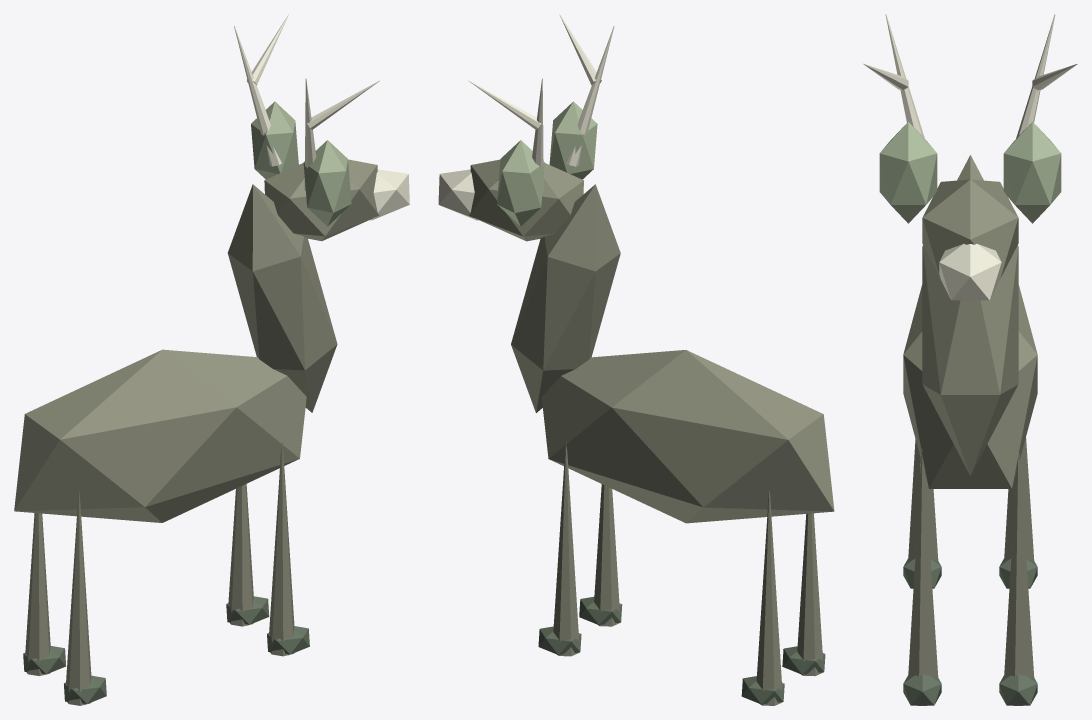
File: deer.glb
3 views of the same model, side by side, from view 1: azimuth 30°, elevation 25°; view 2: azimuth 150°, elevation 25°; view 3: azimuth 270°, elevation 25° (orthographic). The views are drawn at different scales.
Parts seen in each view (by area): view 1: body.003, neck, head.002, shin.004, shin.005, ear.002, shin.006, shin.007, ear.003, muzzle.001, branch.014, hoof.003 (+4 smaller); view 2: body.003, neck, head.002, shin.007, shin.006, ear.003, shin.004, shin.005, ear.002, muzzle.001, branch.012, hoof (+3 smaller); view 3: neck, body.003, head.002, ear.002, ear.003, shin.007, shin.005, muzzle.001, shin.006, shin.004, hoof.001, hoof.003 (+6 smaller).
Boxes of the visible parts, x1,y1,x2,y2 form: body.003: (14,349,306,522); neck: (227,184,337,412); head.002: (264,159,379,241); shin.004: (66,491,91,705); shin.005: (269,442,294,656); ear.002: (303,140,351,226); shin.006: (25,513,50,675); shin.007: (228,484,253,626); ear.003: (251,101,298,179); muzzle.001: (369,169,409,220); branch.014: (234,26,281,166); hoof.003: (226,596,269,625); body.003: (541,350,834,523); neck: (511,184,620,412); head.002: (469,159,583,241); shin.007: (553,442,579,656); shin.006: (756,492,782,705); ear.003: (497,140,544,226); shin.004: (797,513,823,676); shin.005: (594,484,620,626); ear.002: (549,101,597,179); muzzle.001: (438,169,478,220); branch.012: (566,26,614,166); hoof: (782,646,825,674); neck: (922,155,1018,475); body.003: (903,285,1037,488); head.002: (922,179,1018,278); ear.002: (879,121,937,223); ear.003: (1003,121,1061,223); shin.007: (1004,449,1034,677); shin.005: (908,449,938,677); muzzle.001: (939,244,1001,300); shin.006: (1004,438,1034,560); shin.004: (908,439,938,560); hoof.001: (903,674,941,705); hoof.003: (999,674,1037,705).
Size of the model in its own units: 1.9 by 2.71 by 0.7618.
